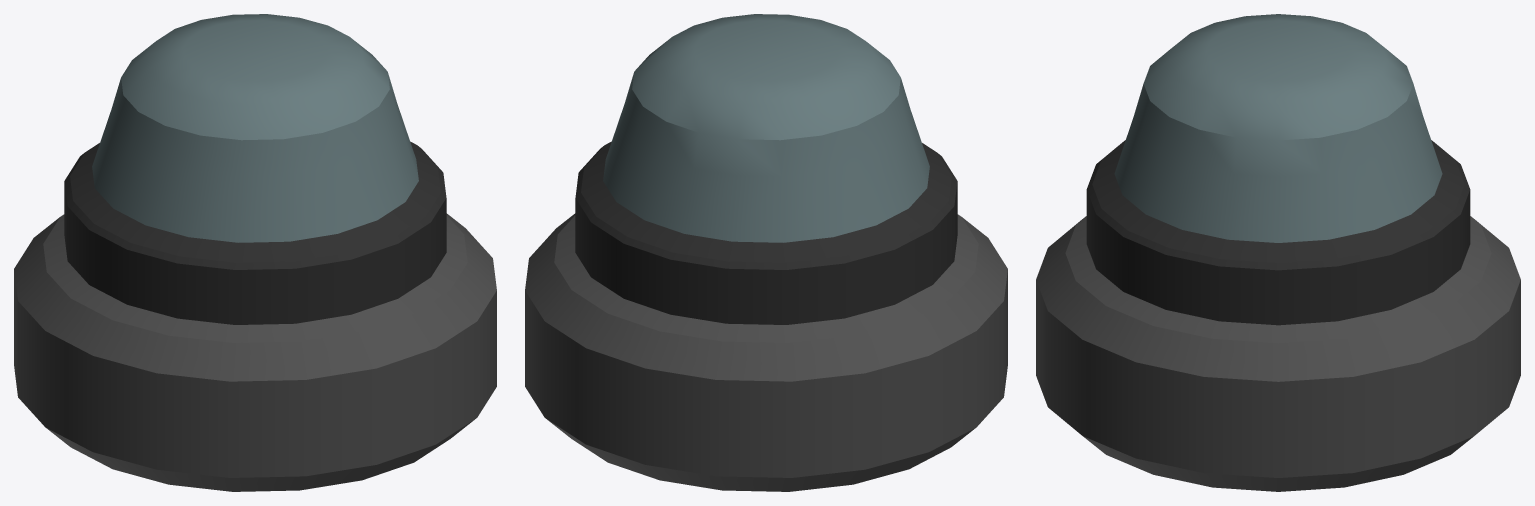
Rendered from SM_LED_Off.fbx.
The picture shows the model from 3 angles, left to right: view 1: azimuth 30°, elevation 25°; view 2: azimuth 150°, elevation 25°; view 3: azimuth 270°, elevation 25°; orthographic projection.
Parts seen in each view (by area): view 1: pCylinder2; view 2: pCylinder2; view 3: pCylinder2.
Part boxes in pixels (<box>): pCylinder2: <box>14,14,496,491</box>; pCylinder2: <box>525,14,1007,491</box>; pCylinder2: <box>1036,14,1520,491</box>.
Size of the model in its own units: 0.5123 by 0.4089 by 0.5123.
